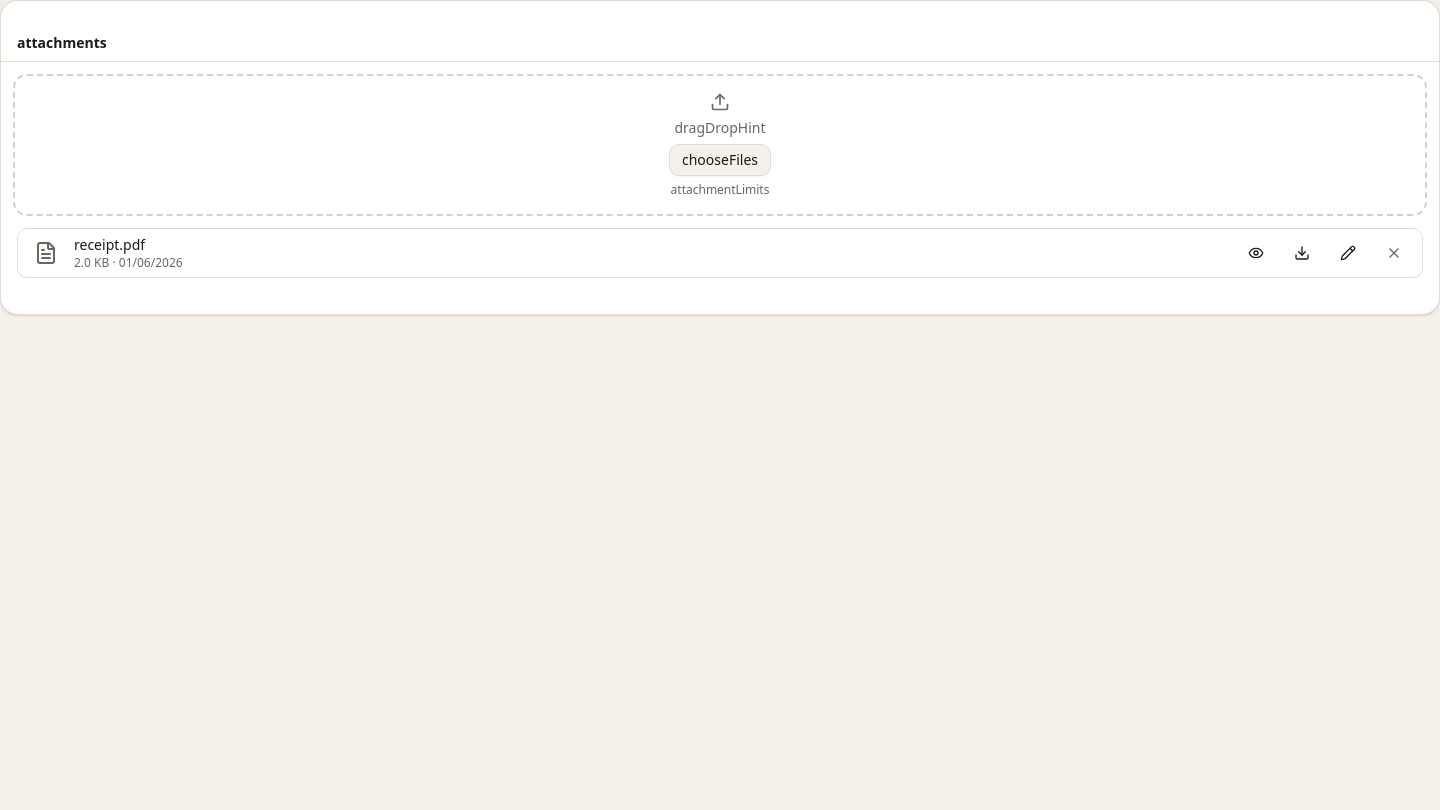
InvoiceAttachments rename › keeps Save disabled when the filename is unchanged
The image size is (1440, 810).
Expected: the text "receipt.pdf" is shown, top-left (74, 235), bottom-right (145, 254)
What coordinates should you click on to do the following:
click the button titled "rename"
I would click on:
 (1348, 253)
Its box is top-left (1330, 237), bottom-right (1366, 269).
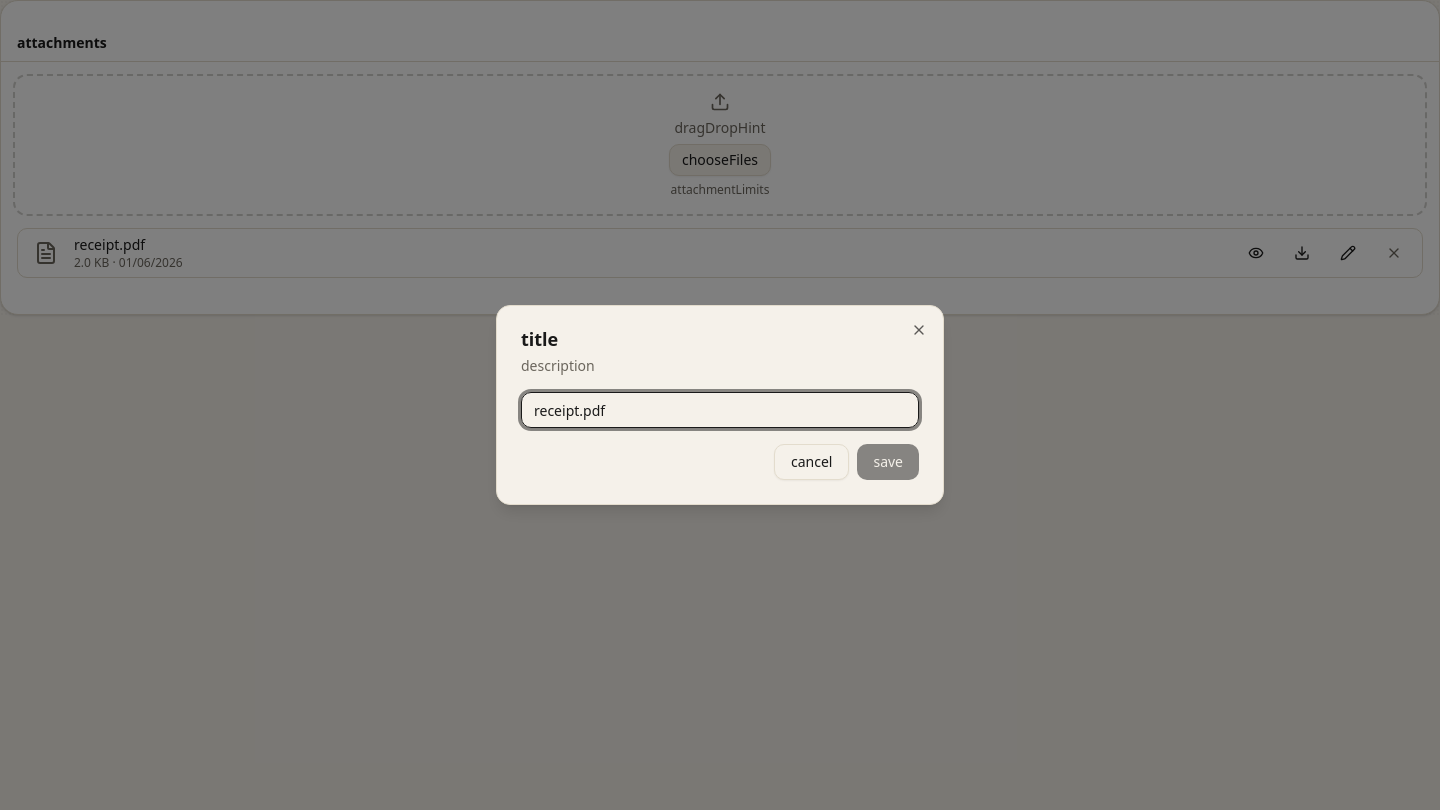
Expected: the field showing "receipt.pdf" is shown, top-left (521, 392), bottom-right (919, 428)
Expected: the button "save" is disabled, top-left (857, 444), bottom-right (919, 480)
